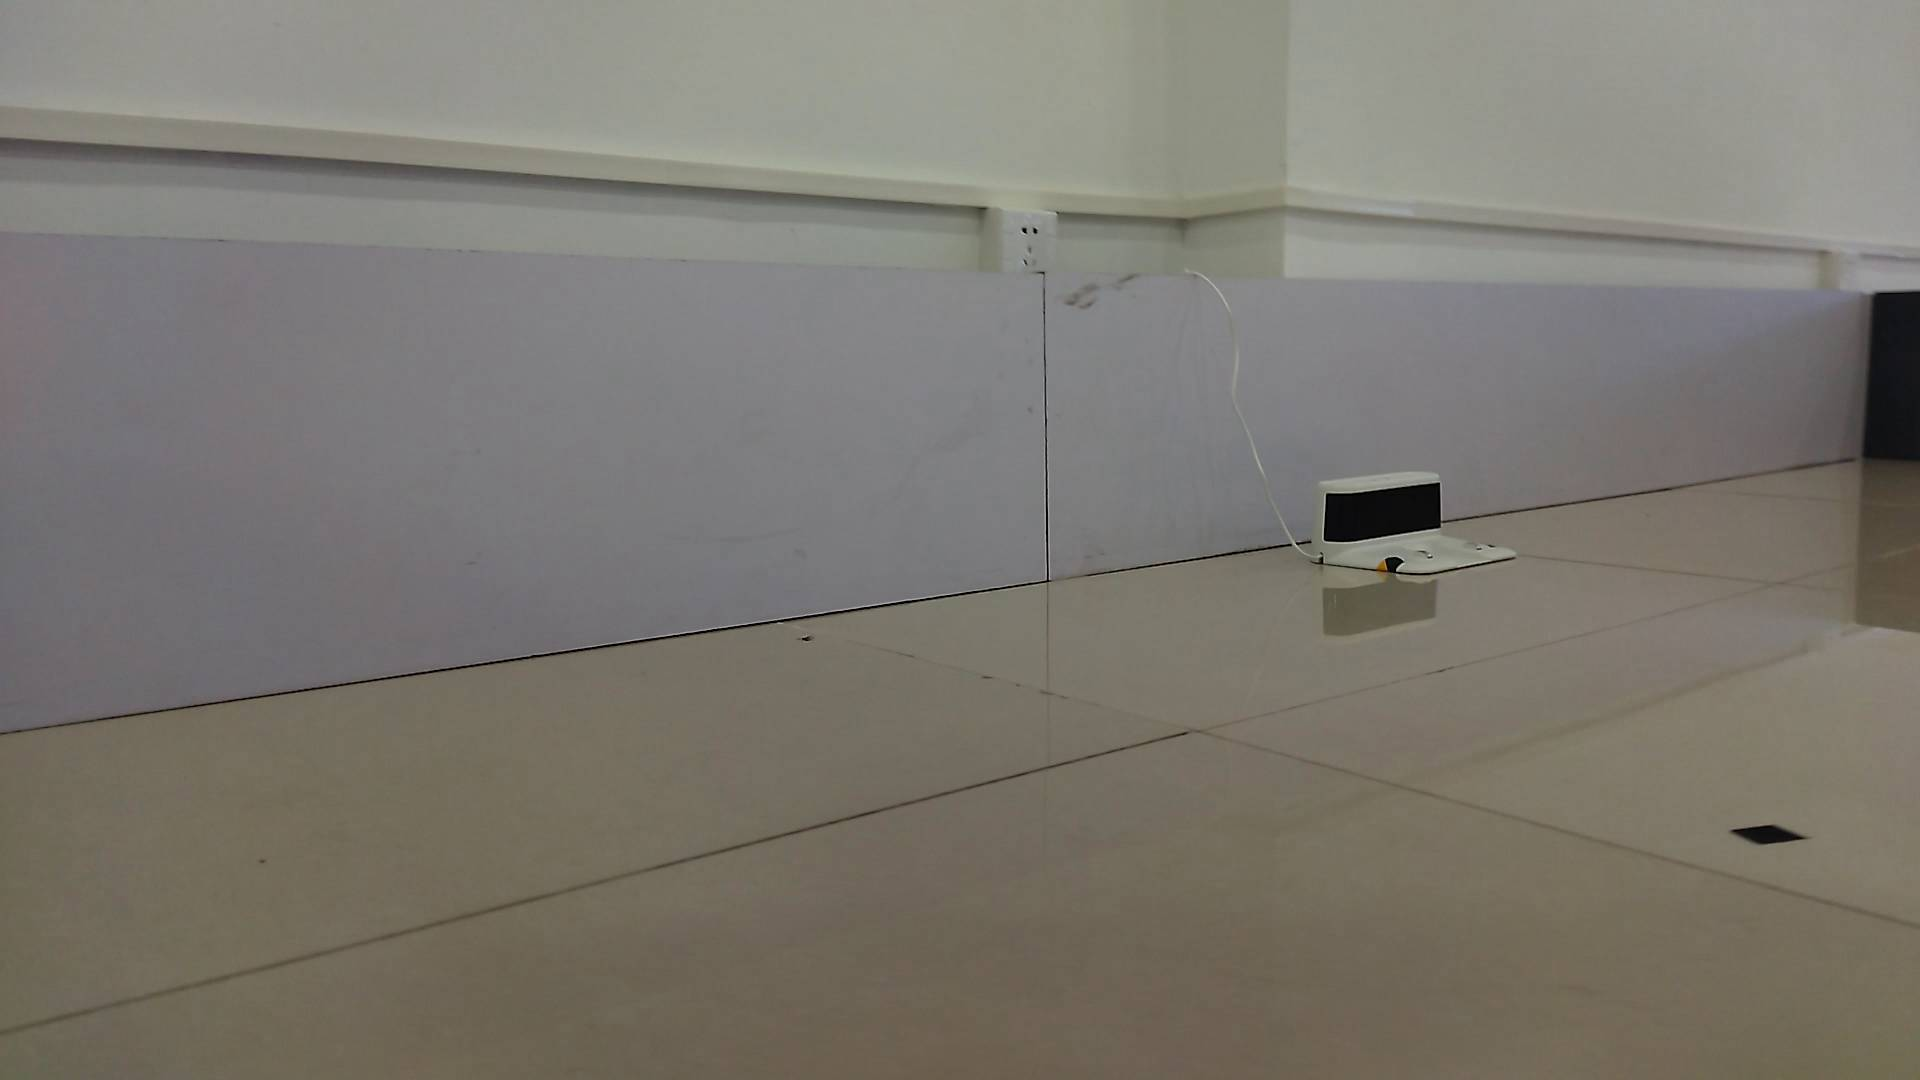recharge seat: (1313, 472, 1520, 575)
